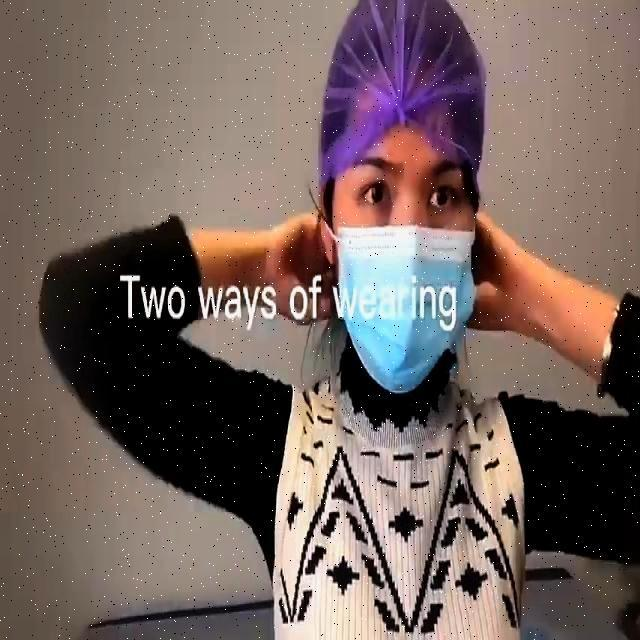gloves: (333, 0, 487, 144)
mask: (333, 223, 483, 392)
no_apron: (254, 209, 326, 303)
